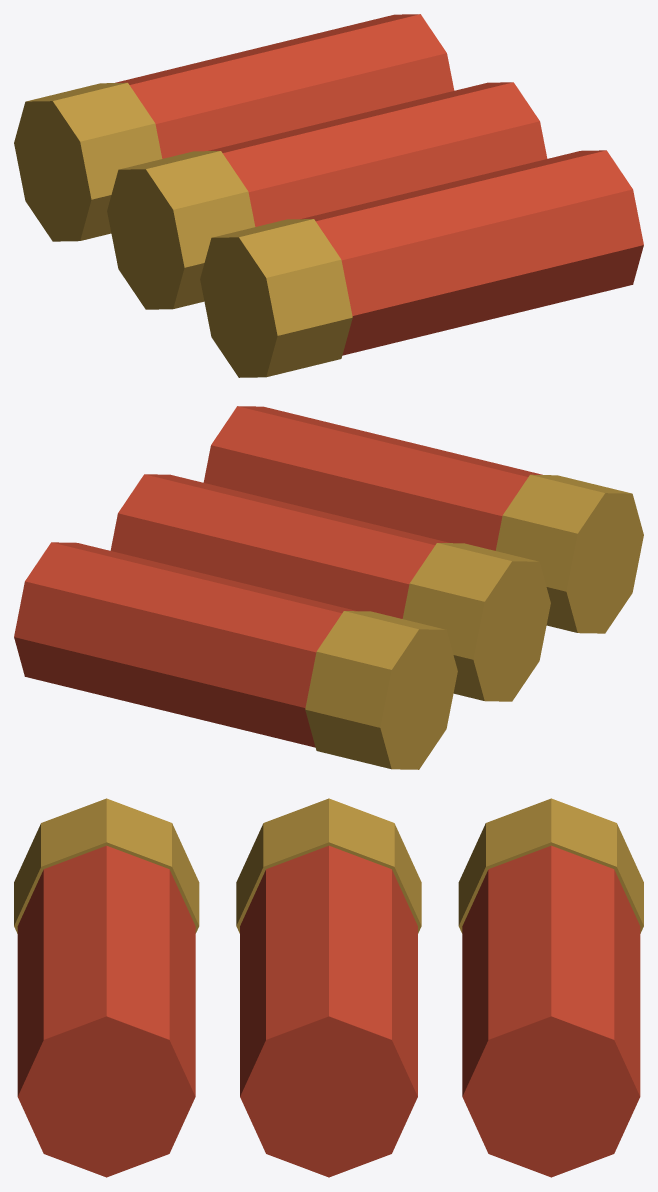
Rendered from shotgun shell.glb.
3 renders of one model, top to bottom at view 1: azimuth 30°, elevation 25°; view 2: azimuth 150°, elevation 25°; view 3: azimuth 270°, elevation 25°, orthographic. The views are drawn at different scales.
Visible parts, largest first — view 1: shotgun shell; view 2: shotgun shell; view 3: shotgun shell.
Boxes of the visible parts, left/top/right/bottom form: shotgun shell: left=14, top=14, right=643, bottom=377; shotgun shell: left=14, top=406, right=643, bottom=769; shotgun shell: left=14, top=798, right=643, bottom=1177.
Size of the model in its own units: 0.2821 by 0.1029 by 0.35.
